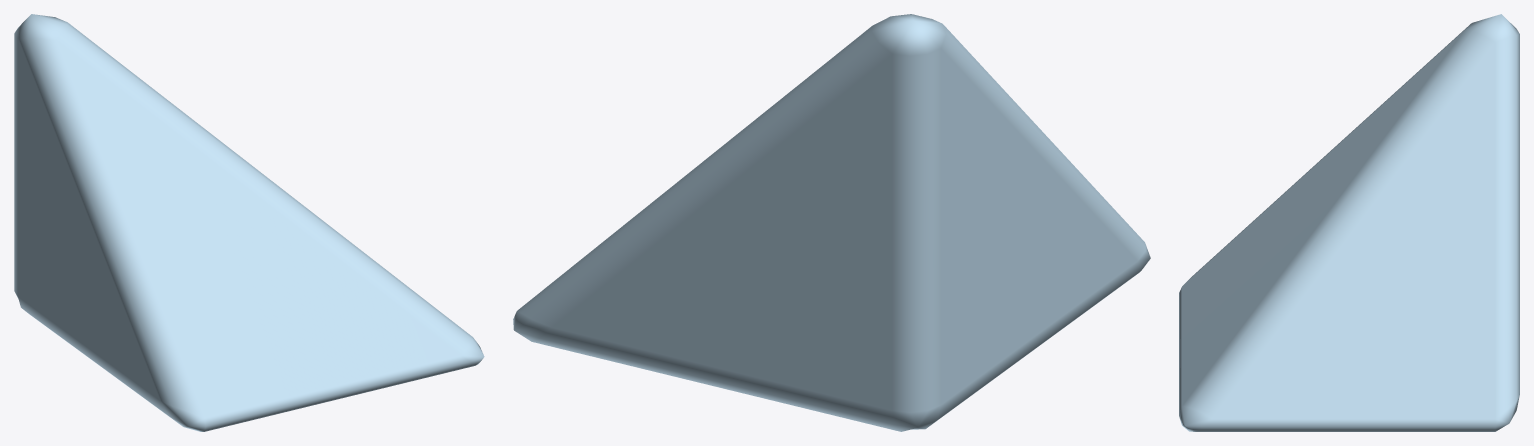
Rendered from R4B_CornerWedge.fbx.
3 views of the same model, side by side, from view 1: azimuth 30°, elevation 25°; view 2: azimuth 150°, elevation 25°; view 3: azimuth 270°, elevation 25° (orthographic). The views are drawn at different scales.
Parts seen in each view (by area): view 1: R4B_CornerWedge; view 2: R4B_CornerWedge; view 3: R4B_CornerWedge.
Part boxes in pixels (left/top/right/bottom): R4B_CornerWedge: left=14, top=14, right=484, bottom=431; R4B_CornerWedge: left=513, top=14, right=1150, bottom=431; R4B_CornerWedge: left=1179, top=14, right=1519, bottom=431.
Size of the model in its own units: 0.4989 by 0.4613 by 0.4989.
